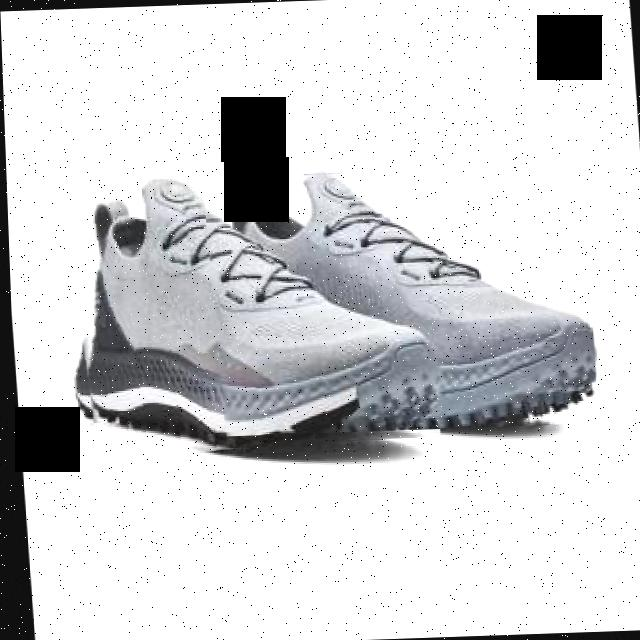shoe: (60, 170, 437, 458), (200, 163, 597, 436)
